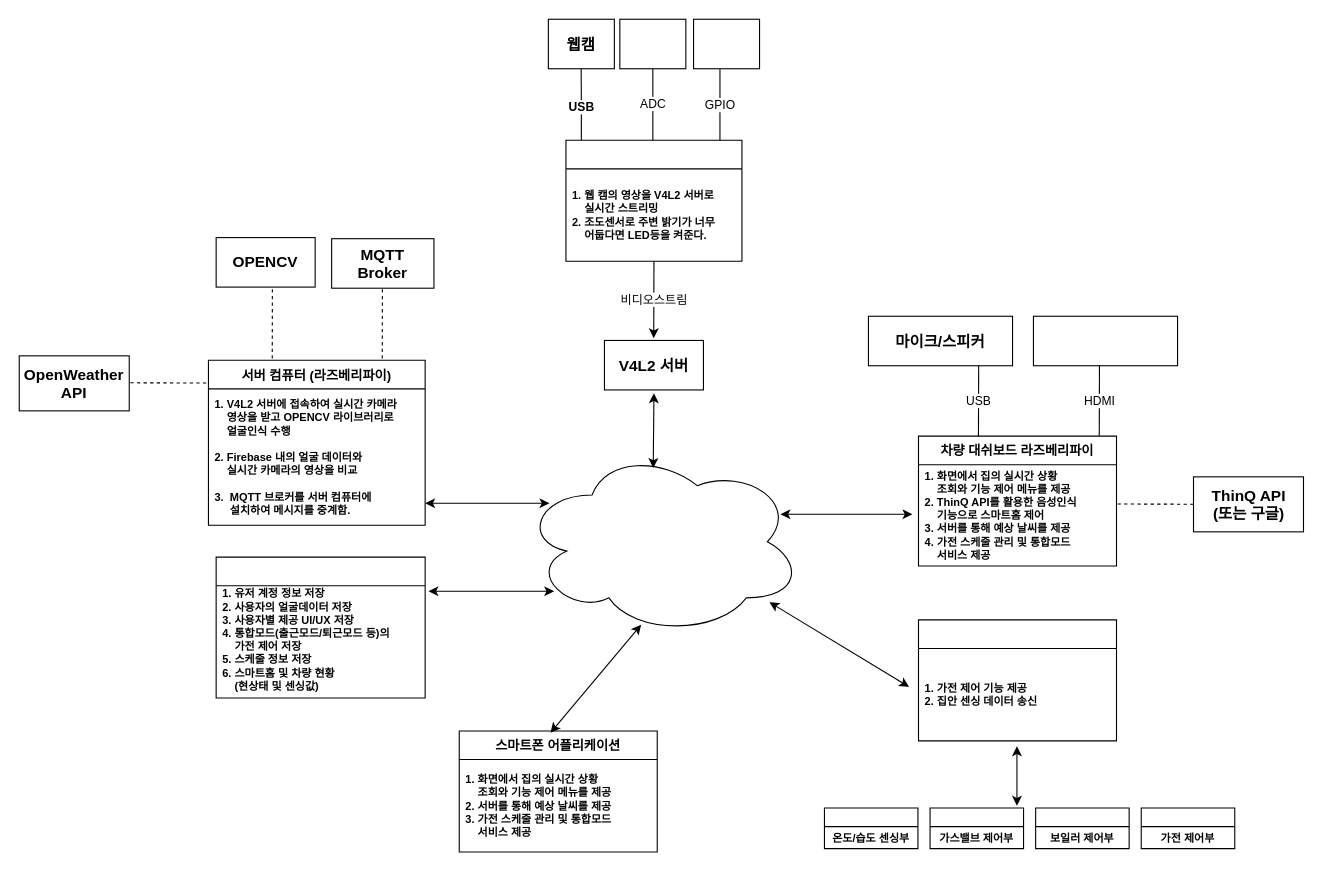
This 1323x871 diagram has some shape labels left out. The box of each missing label's shape, as (x1, y1, x2, y2) in pixels:
Firebase 데이터베이스: (215, 556, 425, 698)
LED등: (692, 18, 760, 69)
TCP/IP Network: (521, 447, 802, 635)
아두이노 + ESP8266: (917, 619, 1116, 741)
얼굴스캔 라즈베리파이: (565, 139, 742, 261)
조도센서: (619, 18, 686, 69)
터치디스플레이: (1032, 315, 1178, 366)
